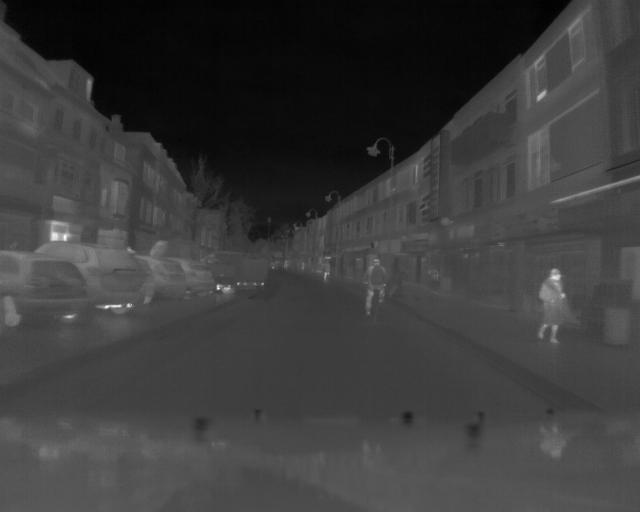car: (2, 253, 87, 321), (89, 242, 147, 319), (223, 253, 268, 301), (152, 253, 185, 304), (187, 257, 219, 301)
person: (534, 268, 572, 351), (360, 258, 392, 327), (321, 258, 338, 284)
